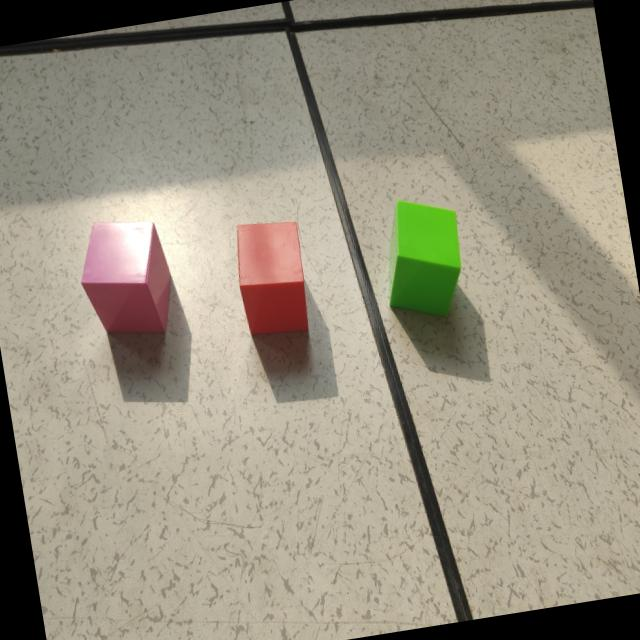green: (390, 201, 462, 318)
pink: (82, 223, 173, 339)
red: (237, 221, 311, 339)
